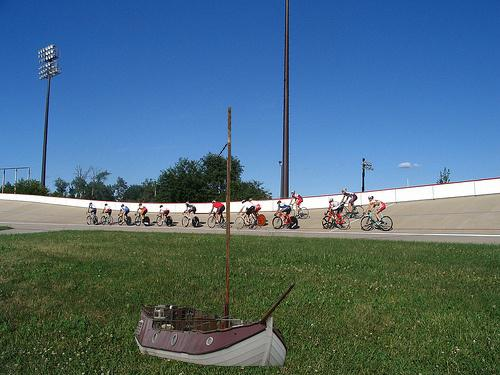tampered: (135, 108, 295, 366)
